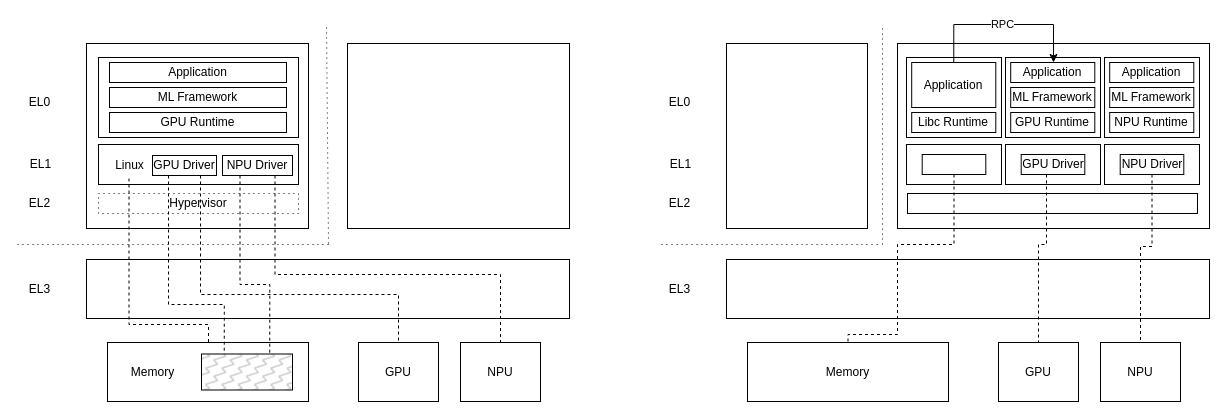
This 1227x419 diagram has some shape labels left out. The centre of each missing label's shape, as x and y in pixels:
Mem Mgr: the point at 953,164
Shared Memory: the point at 246,371
SPM: the point at 1052,203
